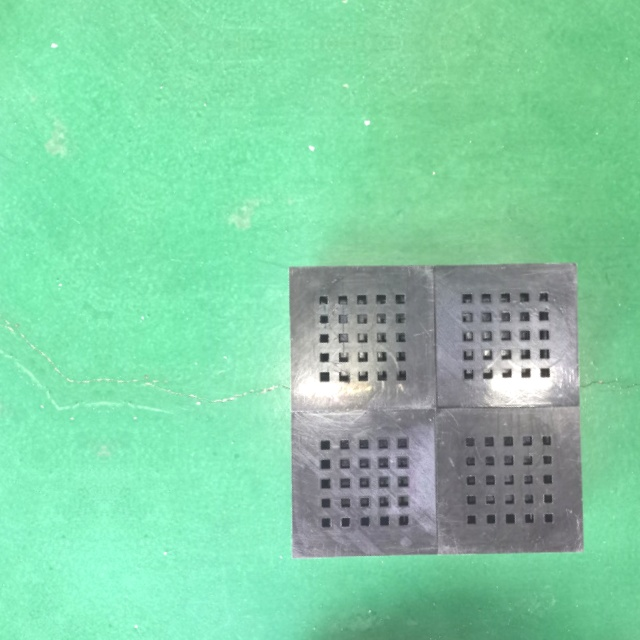pallet: (288, 257, 586, 566)
